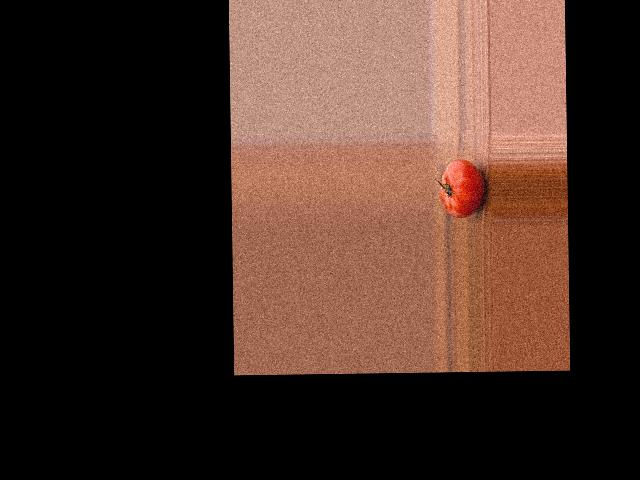tomato: (439, 158, 485, 217)
